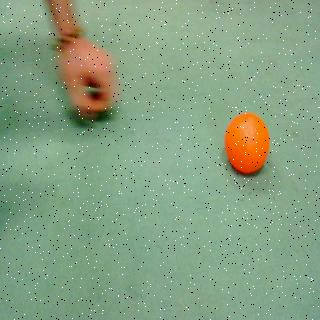orange: (221, 107, 275, 177)
